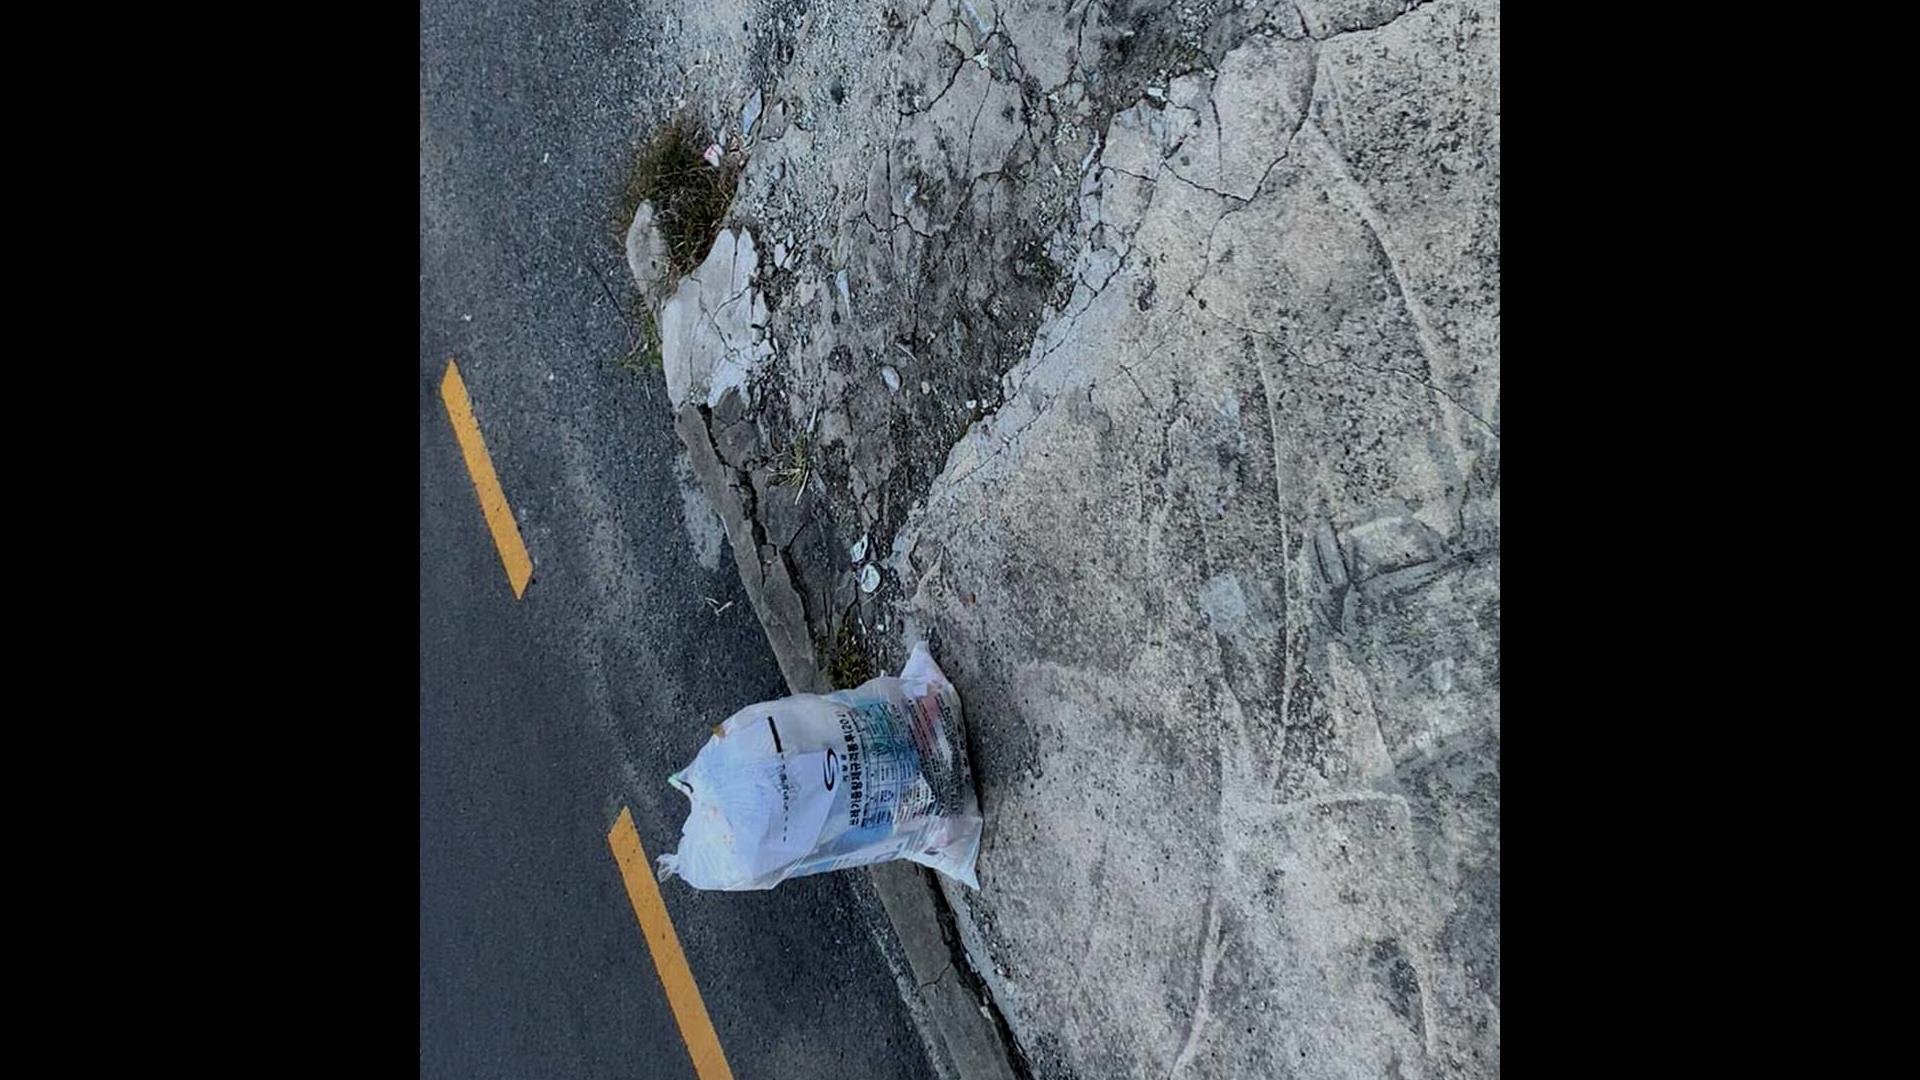white_bag: (640, 633, 1004, 913)
